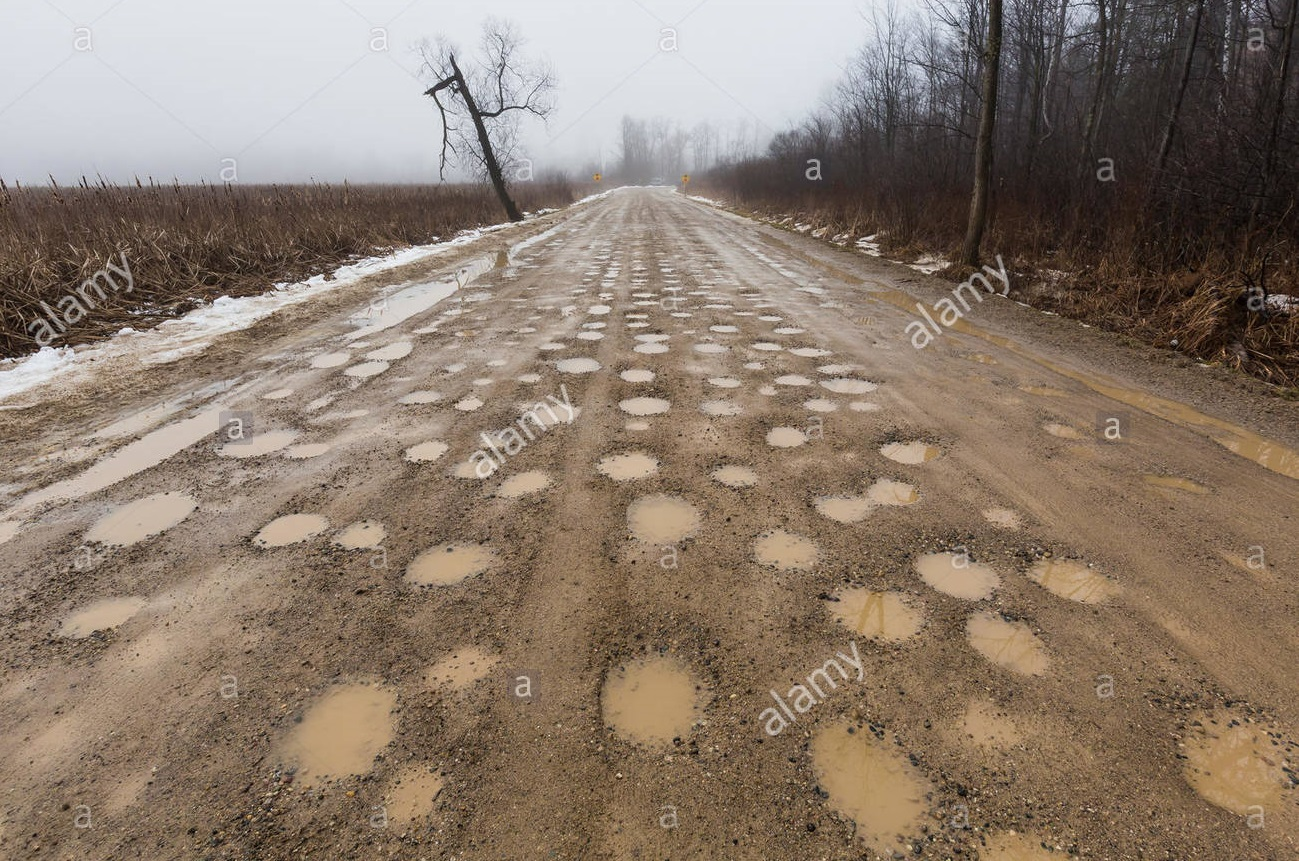pothole: (777, 699, 926, 837), (1161, 718, 1299, 829), (1131, 394, 1299, 480), (600, 639, 725, 751), (306, 683, 402, 774), (949, 688, 1082, 744), (958, 602, 1057, 672), (822, 585, 923, 649), (1024, 544, 1126, 602), (981, 813, 1103, 861), (120, 479, 193, 553), (407, 640, 515, 687), (407, 528, 490, 589), (208, 424, 328, 466), (915, 551, 1006, 603), (626, 498, 701, 558), (368, 281, 442, 341), (58, 577, 134, 632), (255, 504, 324, 559), (740, 520, 824, 564), (382, 760, 445, 817), (788, 486, 919, 512), (1210, 545, 1291, 587), (335, 511, 392, 570), (882, 423, 947, 466), (1041, 421, 1121, 454), (603, 448, 673, 483), (824, 362, 880, 400), (402, 427, 446, 473), (500, 465, 552, 502), (615, 390, 675, 422), (1137, 472, 1211, 497), (976, 500, 1027, 536), (763, 416, 817, 448), (302, 343, 350, 377), (339, 351, 390, 378), (712, 460, 762, 487), (520, 399, 574, 421), (540, 355, 598, 375), (405, 383, 442, 414), (696, 398, 736, 421), (614, 373, 661, 390), (301, 399, 344, 417), (260, 385, 294, 406), (603, 424, 663, 435), (508, 370, 549, 386), (701, 371, 737, 388), (454, 393, 483, 413)
